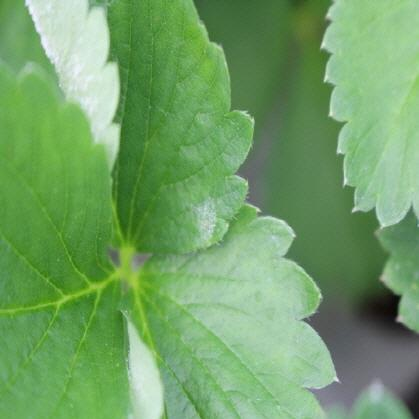Powdery Mildew Leaf: (25, 0, 257, 254), (120, 199, 340, 418)
